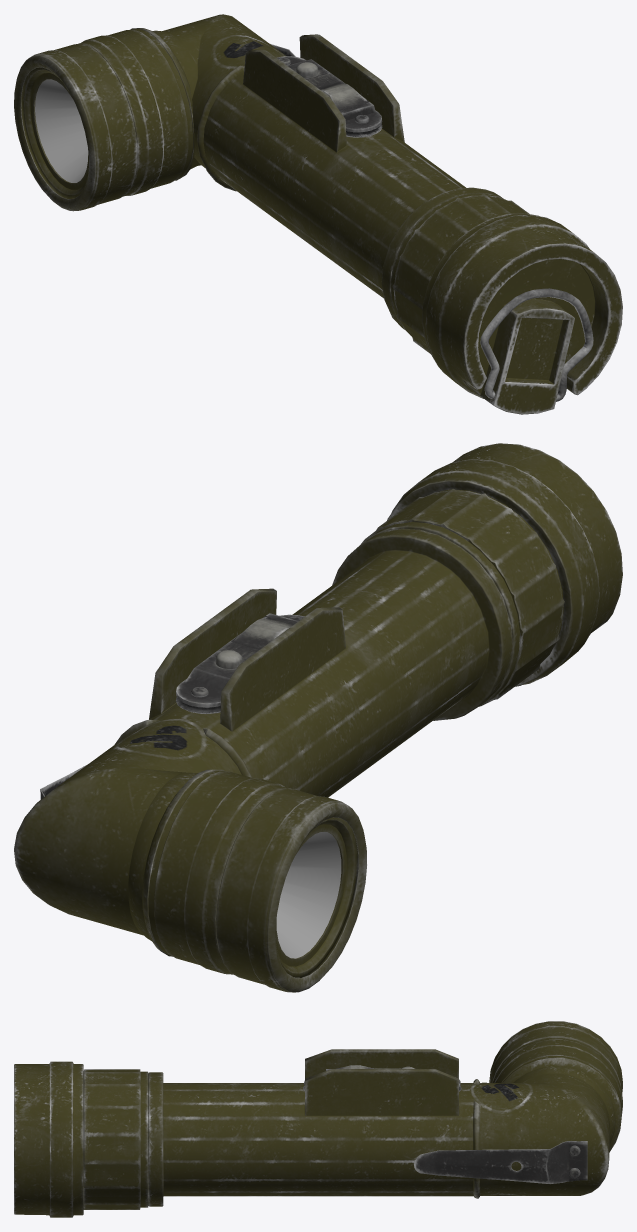
File: flashlight.glb
The picture shows the model from 3 angles, top to bottom: view 1: azimuth 30°, elevation 25°; view 2: azimuth 150°, elevation 25°; view 3: azimuth 270°, elevation 25°; orthographic projection. The views are drawn at different scales.
Parts seen in each view (by area): view 1: MainBody_low1, StorageCap_low, LightHousing_low, LenseCap_low, BatteryCap_low, Handle_low, SwitchHousing_low1, Switch_low; view 2: MainBody_low1, LightHousing_low, StorageCap_low, LenseCap_low, BatteryCap_low, SwitchHousing_low1, Switch_low; view 3: MainBody_low1, StorageCap_low, BatteryCap_low, Clip_low, LightHousing_low, LenseCap_low.
Part boxes in pixels (left/top/right/bottom): MainBody_low1: left=152, top=14, right=503, bottom=329; StorageCap_low: left=422, top=213, right=622, bottom=414; LightHousing_low: left=21, top=28, right=193, bottom=198; LenseCap_low: left=14, top=43, right=137, bottom=211; BatteryCap_low: left=390, top=193, right=529, bottom=353; Handle_low: left=480, top=288, right=593, bottom=401; SwitchHousing_low1: left=276, top=56, right=382, bottom=132; Switch_low: left=318, top=81, right=369, bottom=110; MainBody_low1: left=14, top=528, right=512, bottom=940; LightHousing_low: left=142, top=769, right=358, bottom=977; StorageCap_low: left=387, top=443, right=622, bottom=686; LenseCap_low: left=216, top=788, right=366, bottom=992; BatteryCap_low: left=360, top=488, right=564, bottom=706; SwitchHousing_low1: left=176, top=613, right=304, bottom=707; Switch_low: left=231, top=616, right=294, bottom=649; MainBody_low1: left=148, top=1049, right=615, bottom=1206; StorageCap_low: left=14, top=1061, right=83, bottom=1217; BatteryCap_low: left=83, top=1069, right=148, bottom=1209; Clip_low: left=414, top=1141, right=587, bottom=1184; LightHousing_low: left=492, top=1037, right=622, bottom=1152; LenseCap_low: left=489, top=1021, right=622, bottom=1093.
Size of the model in its own units: 0.5124 by 0.3689 by 1.33.
2 materials, 2 textured.
